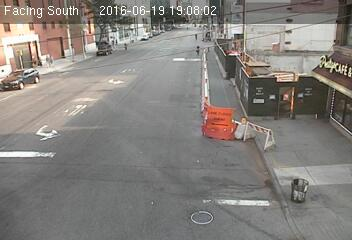neg: (215, 117, 259, 176), (293, 134, 319, 170), (102, 70, 122, 97), (102, 13, 117, 33), (141, 50, 155, 69), (164, 33, 178, 52), (52, 20, 65, 36), (83, 24, 94, 39), (144, 28, 152, 38)
pos: (28, 53, 41, 71), (47, 54, 57, 68), (194, 43, 204, 56), (120, 39, 130, 51)
